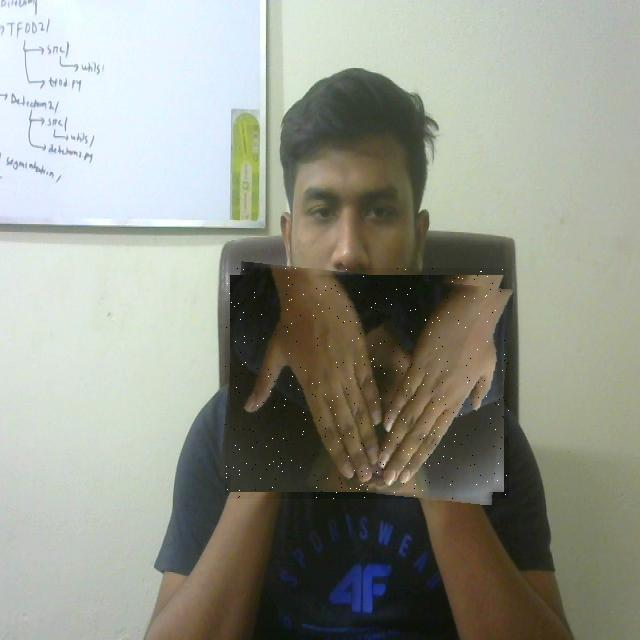Thanks: (225, 268, 509, 499)
